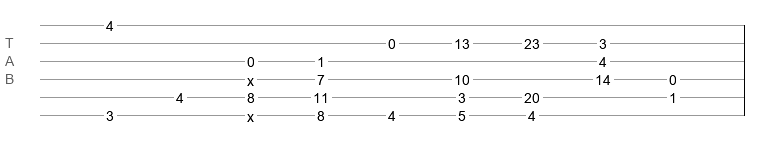0: (247, 54, 255, 64), (388, 36, 396, 46), (669, 72, 677, 82)
1: (317, 54, 325, 64), (669, 90, 677, 100)
10: (454, 72, 470, 82)
11: (313, 90, 329, 100)
13: (454, 36, 470, 46)
14: (595, 72, 611, 82)
20: (524, 90, 540, 100)
23: (524, 36, 540, 46)
3: (106, 108, 114, 118), (458, 90, 466, 100), (599, 36, 607, 46)
4: (106, 18, 114, 28), (176, 90, 184, 100), (388, 108, 396, 118), (528, 108, 536, 118), (599, 54, 607, 64)
5: (458, 108, 466, 118)
7: (317, 72, 325, 82)
8: (247, 90, 255, 100), (317, 108, 325, 118)
x: (247, 73, 254, 81), (247, 109, 254, 117)
